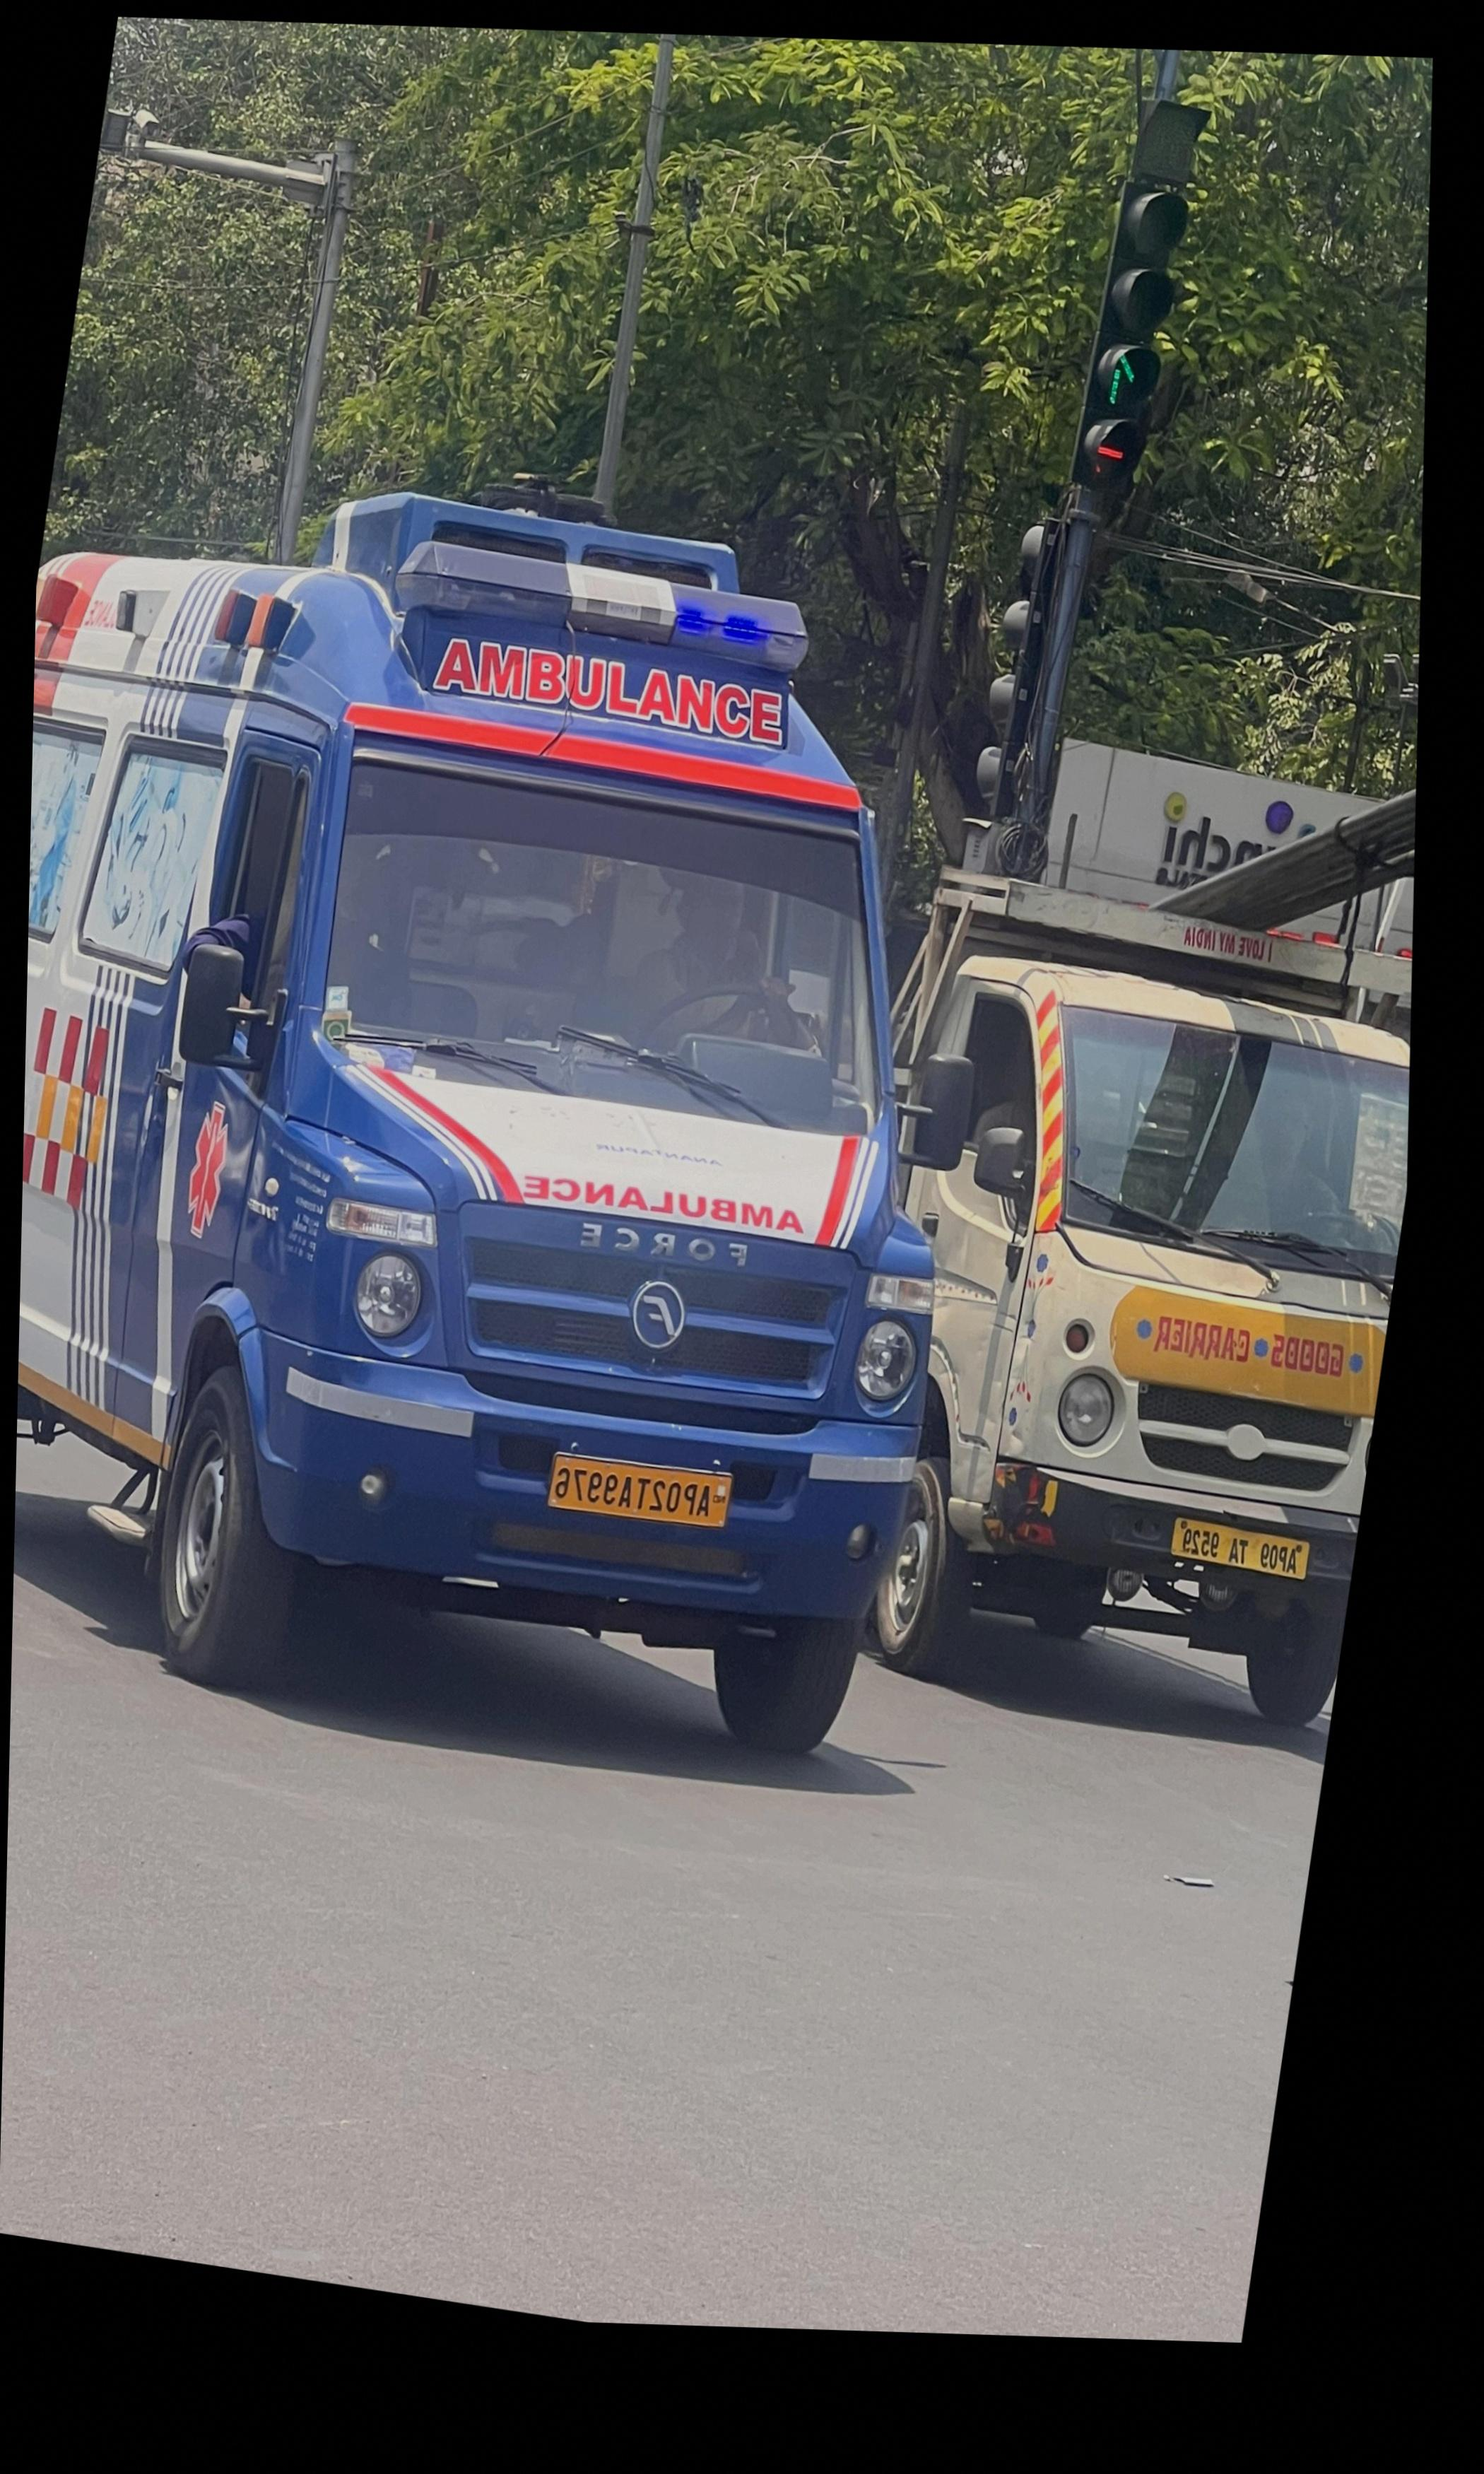ambulance: (19, 500, 943, 1764)
